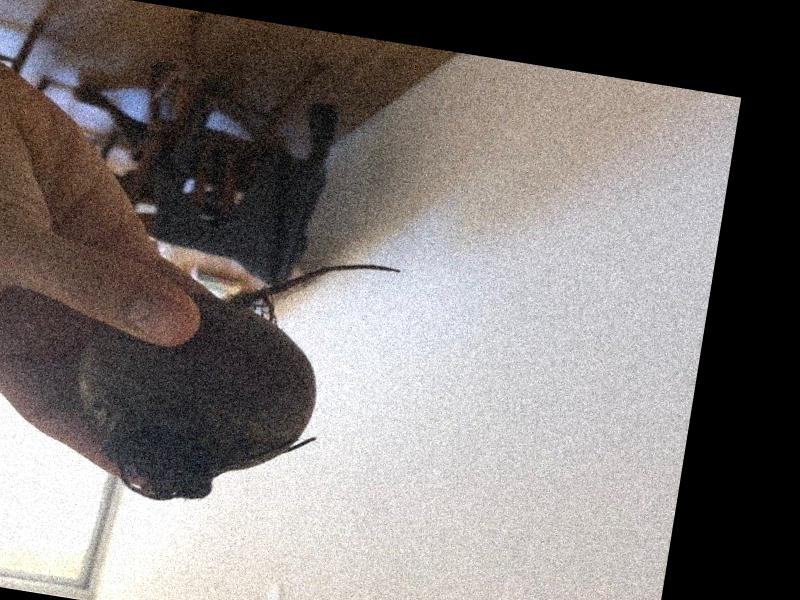Beet: (61, 222, 402, 533)
